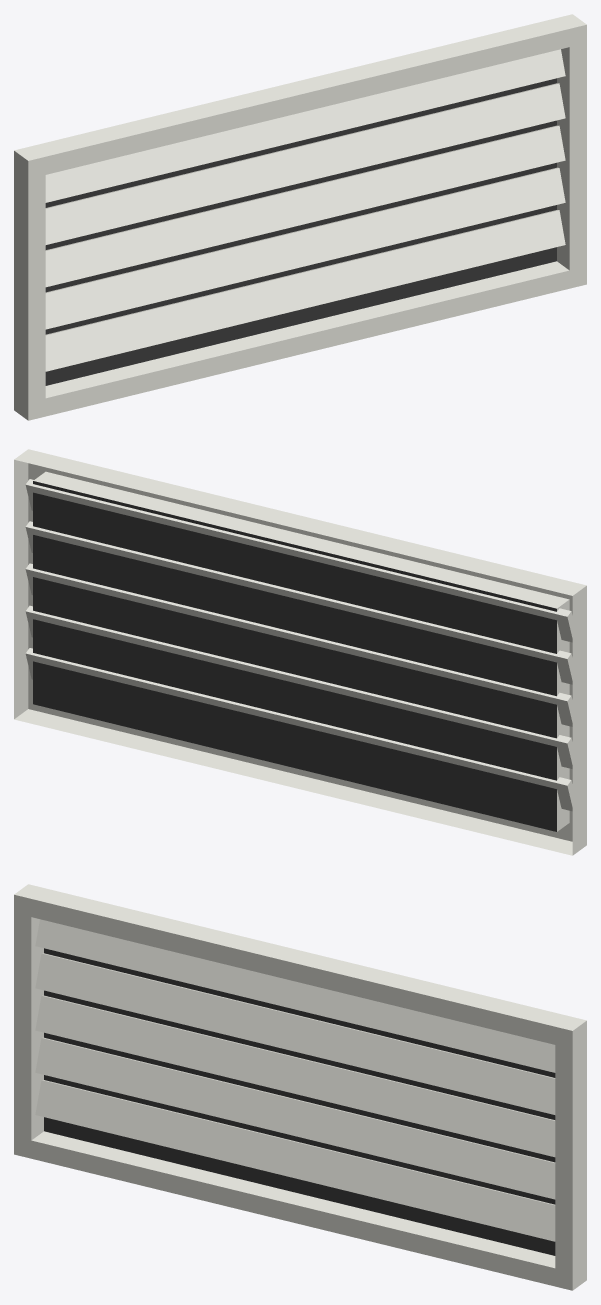
File: 3D004_Office_AirVent.FBX
The picture shows the model from 3 angles, top to bottom: view 1: azimuth 30°, elevation 25°; view 2: azimuth 150°, elevation 25°; view 3: azimuth 330°, elevation 25°; orthographic projection.
Visible parts, largest first — view 1: 3D004_Office_AirVent; view 2: 3D004_Office_AirVent; view 3: 3D004_Office_AirVent.
Part boxes in pixels (bbox=[...]): 3D004_Office_AirVent: bbox=[14, 14, 586, 420]; 3D004_Office_AirVent: bbox=[14, 449, 586, 855]; 3D004_Office_AirVent: bbox=[14, 884, 586, 1290].
Bounding box in the file's own units: 45 × 20 × 2.
